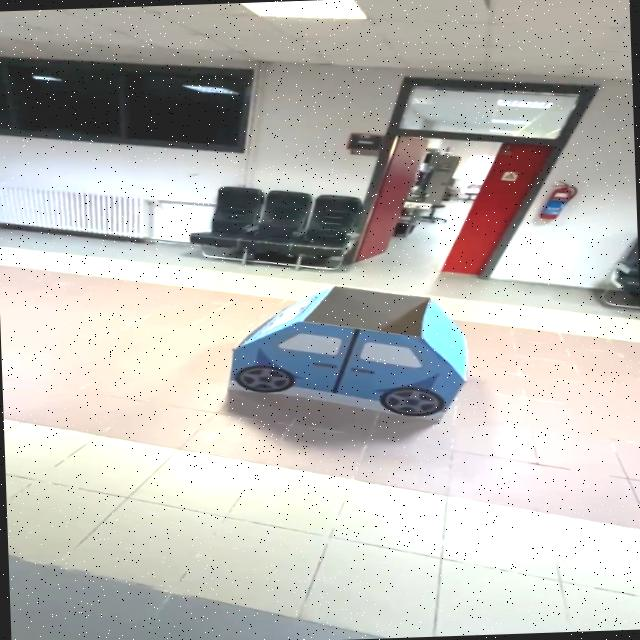blue_car: (198, 269, 504, 432)
